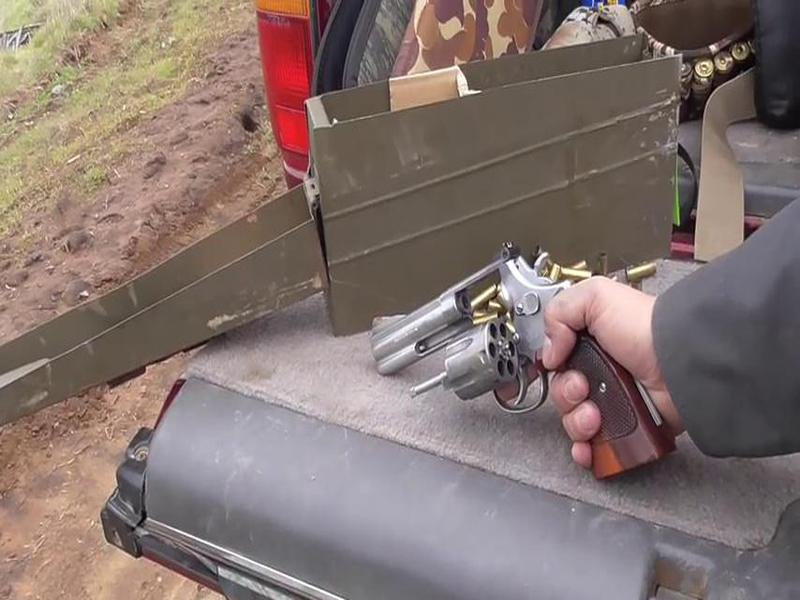Revolver: (314, 246, 678, 497)
